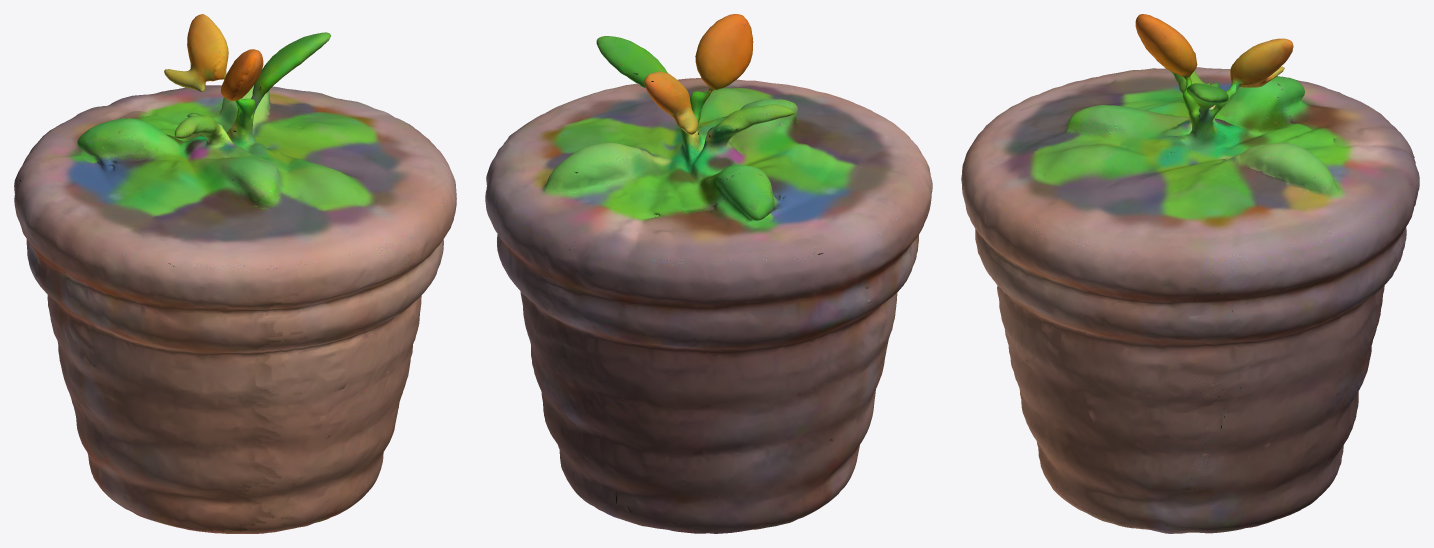
The model's file is FlowerPot.fbx.
3 views of the same model, side by side, from view 1: azimuth 30°, elevation 25°; view 2: azimuth 150°, elevation 25°; view 3: azimuth 270°, elevation 25° (orthographic). The views are drawn at different scales.
Visible parts, largest first — view 1: Mesh1; view 2: Mesh1; view 3: Mesh1.
Part boxes in pixels (x1,y1,x2,y2): Mesh1: [14, 14, 456, 533]; Mesh1: [485, 14, 932, 533]; Mesh1: [961, 14, 1419, 533].
Bounding box in the file's own units: 105 × 120 × 105.
Materials: 1 (1 with a texture image).
